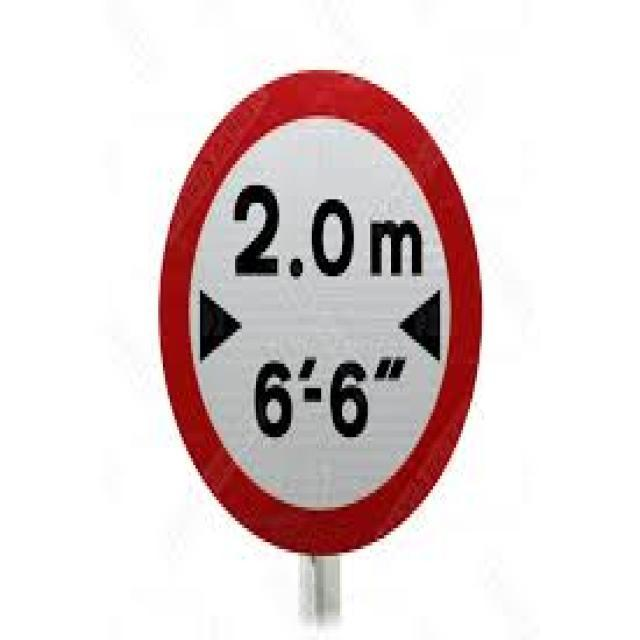width limit: (160, 66, 479, 556)
